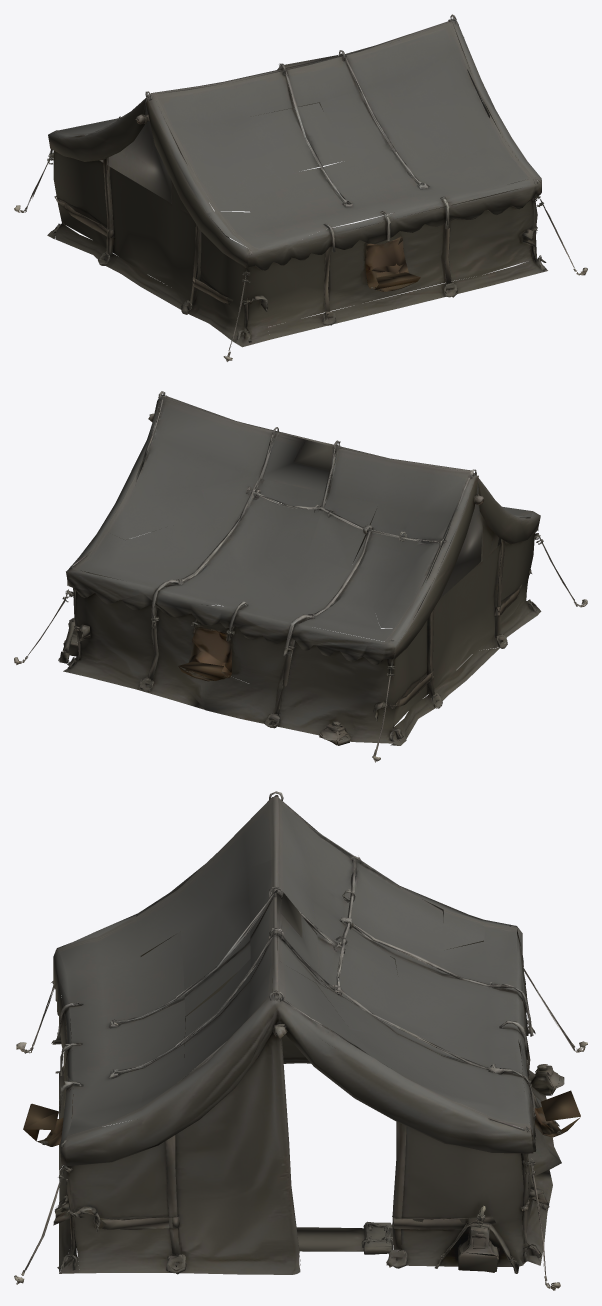
Rendered from ch4_meridian_field_tent_LOD1.glb.
3 views of the same model, one above another, from view 1: azimuth 30°, elevation 25°; view 2: azimuth 150°, elevation 25°; view 3: azimuth 270°, elevation 25° (orthographic). The views are drawn at different scales.
Parts seen in each view (by area): view 1: tripo_node_1440f594-e552-42cb-9a64-4c4fdd637bb7; view 2: tripo_node_1440f594-e552-42cb-9a64-4c4fdd637bb7; view 3: tripo_node_1440f594-e552-42cb-9a64-4c4fdd637bb7.
Part boxes in pixels (box(x1,y1,x2,y2)): tripo_node_1440f594-e552-42cb-9a64-4c4fdd637bb7: box(14, 14, 587, 361); tripo_node_1440f594-e552-42cb-9a64-4c4fdd637bb7: box(14, 391, 587, 762); tripo_node_1440f594-e552-42cb-9a64-4c4fdd637bb7: box(14, 791, 587, 1290).
Size of the model in its own units: 0.9991 by 0.5348 by 0.9941.
Materials: 1 (1 with a texture image).
